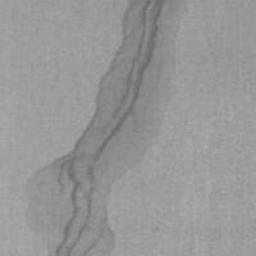Water spot: (22, 0, 192, 256)
